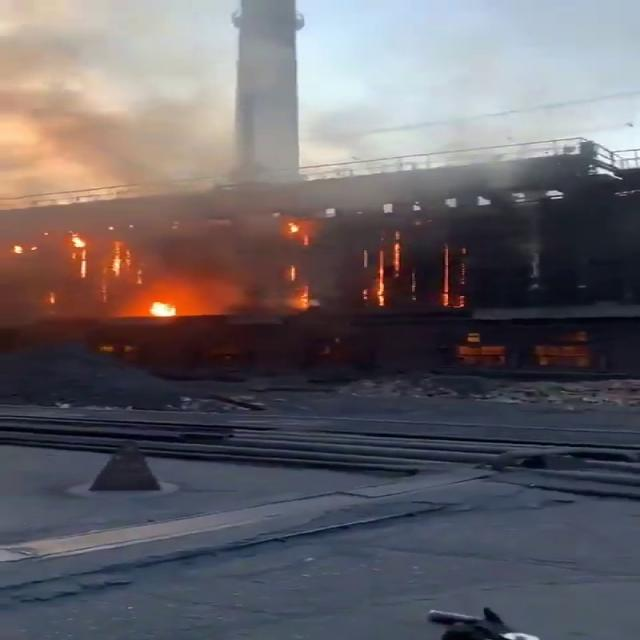Fire: (128, 289, 212, 322)
Smoke: (0, 17, 235, 211)
